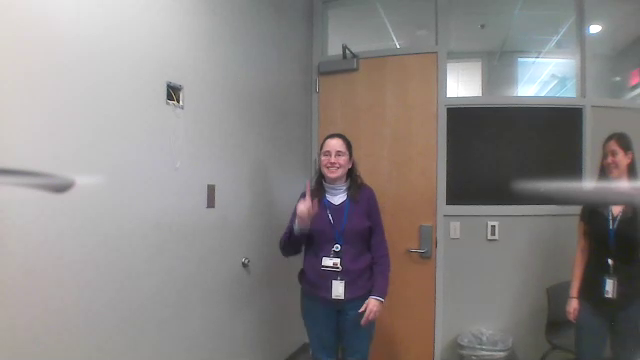up: (292, 176, 320, 225)
